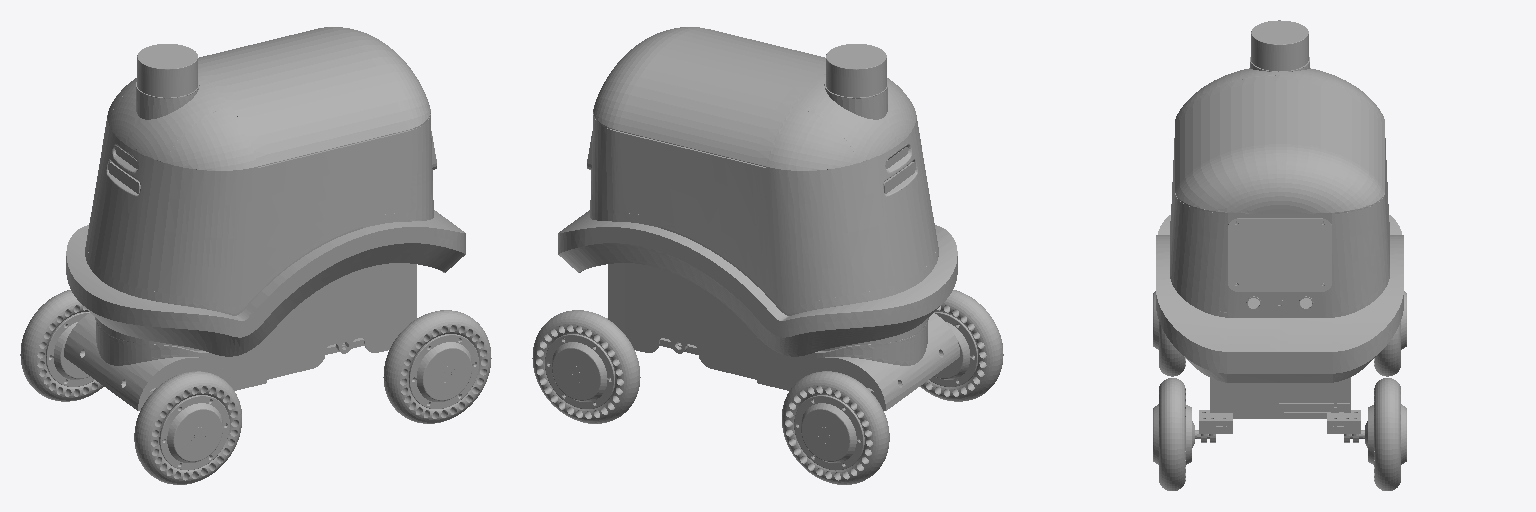
robot.urdf — dp:
<?xml version="1.0" ?>
<!-- =================================================================================== -->
<!-- |    This document was autogenerated by xacro from [local-path]/catkin_ws/src/dp_description/urdf/dp.xacro | -->
<!-- |    EDITING THIS FILE BY HAND IS NOT RECOMMENDED                                 | -->
<!-- =================================================================================== -->
<robot name="dp">
  <material name="silver">
    <color rgba="0.700 0.700 0.700 1.000"/>
  </material>
  <!-- <xacro:include filename="$(find dp_description)/urdf/dp.trans" /> -->
  <gazebo reference="base_link">
    <material>Gazebo/Grey</material>
  </gazebo>
  <gazebo reference="right_frontwheel_1">
    <material>Gazebo/Black</material>
  </gazebo>
  <gazebo reference="left_frontwheel_1">
    <material>Gazebo/Black</material>
  </gazebo>
  <gazebo reference="right_backwheel_1">
    <material>Gazebo/Black</material>
  </gazebo>
  <gazebo reference="left_backwheel_1">
    <material>Gazebo/Black</material>
  </gazebo>
  <gazebo reference="lidar_1">
    <material>Gazebo/Red</material>
  </gazebo>
  <gazebo reference="middle_case_1">
    <material>Gazebo/Red</material>
  </gazebo>
  <gazebo reference="top_case_1">
    <material>Gazebo/White</material>
  </gazebo>
  <gazebo reference="monitor_1">
    <material>Gazebo/Grey</material>
  </gazebo>
  <gazebo reference="realsense256_1">
    <material>Gazebo/Yellow</material>
  </gazebo>
  <gazebo reference="realsense450_1">
    <material>Gazebo/Yellow</material>
  </gazebo>
  <gazebo reference="base_link">
    <mu1>1.0</mu1>
    <mu2>1.0</mu2>
    <selfCollide>true</selfCollide>
    <gravity>true</gravity>
  </gazebo>
  <gazebo reference="right_frontwheel_1">
    <mu1>100</mu1>
    <mu2>100</mu2>
    <selfCollide>true</selfCollide>
  </gazebo>
  <gazebo reference="left_frontwheel_1">
    <mu1>100</mu1>
    <mu2>100</mu2>
    <selfCollide>true</selfCollide>
  </gazebo>
  <gazebo reference="right_backwheel_1">
    <mu1>100</mu1>
    <mu2>100</mu2>
    <selfCollide>true</selfCollide>
  </gazebo>
  <gazebo reference="left_backwheel_1">
    <mu1>100</mu1>
    <mu2>100</mu2>
    <selfCollide>true</selfCollide>
  </gazebo>
  <gazebo reference="lidar_1">
    <mu1>1.0</mu1>
    <mu2>1.0</mu2>
    <selfCollide>true</selfCollide>
  </gazebo>
  <gazebo reference="middle_case_1">
    <mu1>1.0</mu1>
    <mu2>1.0</mu2>
    <selfCollide>true</selfCollide>
  </gazebo>
  <gazebo reference="top_case_1">
    <mu1>1.0</mu1>
    <mu2>1.0</mu2>
    <selfCollide>true</selfCollide>
  </gazebo>
  <gazebo reference="monitor_1">
    <mu1>1.0</mu1>
    <mu2>1.0</mu2>
    <selfCollide>true</selfCollide>
  </gazebo>
  <gazebo reference="realsense256_1">
    <mu1>1.0</mu1>
    <mu2>1.0</mu2>
    <selfCollide>true</selfCollide>
  </gazebo>
  <gazebo reference="realsense450_1">
    <mu1>1.0</mu1>
    <mu2>1.0</mu2>
    <selfCollide>true</selfCollide>
  </gazebo>
  <!--################################## ROS control ##################################-->
  <gazebo>
    <plugin filename="libgazebo_ros_control.so" name="control"/>
  </gazebo>
  <!--################################## Differential Drive ##################################-->
  <gazebo>
    <plugin filename="libgazebo_ros_diff_drive.so" name="differential_drive_controller">
      <!-- Plugin update rate in Hz -->
      <updateRate>20</updateRate>
      <!-- Name of left joint, defaults to `left_joint` -->
      <leftJoint>left_front_rota</leftJoint>
      <!-- Name of right joint, defaults to `right_joint` -->
      <rightJoint>right_front_rota</rightJoint>
      <!-- Name of left joint, defaults to `left_joint` -->
      <leftJoint>left_back_rota</leftJoint>
      <!-- Name of right joint, defaults to `right_joint` -->
      <rightJoint>right_back_rota</rightJoint>
      <!-- Wheel acceleration, in rad/s^2, defaults to 0.0 rad/s^2 -->
      <wheelAcceleration>1.0</wheelAcceleration>
      <!-- Maximum torque which the wheels can produce, in Nm, defaults to 5 Nm -->
      <wheelTorque>20</wheelTorque>
      <!-- Topic to receive geometry_msgs/Twist message commands, defaults to `cmd_vel` -->
      <commandTopic>cmd_vel</commandTopic>
      <!-- Topic to publish nav_msgs/Odometry messages, defaults to `odom` -->
      <odometryTopic>odom</odometryTopic>
      <!-- Odometry frame, defaults to `odom` -->
      <odometryFrame>odom</odometryFrame>
      <!-- Robot frame to calculate odometry from, defaults to `base_footprint` -->
      <robotBaseFrame>base_link</robotBaseFrame>
      <!-- Odometry source, 0 for ENCODER, 1 for WORLD, defaults to WORLD -->
      <odometrySource>1</odometrySource>
      <!-- Set to true to publish transforms for the wheel links, defaults to false -->
      <publishWheelTF>true</publishWheelTF>
      <!-- Set to true to publish transforms for the odometry, defaults to true -->
      <publishOdom>true</publishOdom>
      <!-- Set to true to publish sensor_msgs/JointState on /joint_states for the wheel joints, defaults to false -->
      <publishWheelJointState>true</publishWheelJointState>
      <!-- Set to true to swap right and left wheels, defaults to true -->
      <legacyMode>false</legacyMode>
    </plugin>
  </gazebo>
  <!--################################## GPU Laser Drive ##################################-->
  <gazebo reference="lidar_1">
    <sensor name="rplidar_a1" type="gpu_ray">
      <pose>0 0 0 0 0 0</pose>
      <visualize>true</visualize>
      <update_rate>10</update_rate>
      <ray>
        <scan>
          <horizontal>
            <samples>720</samples>
            <resolution>1</resolution>
            <min_angle>-2.87979</min_angle>
            <max_angle>2.87979</max_angle>
          </horizontal>
        </scan>
        <range>
          <min>0.10</min>
          <max>30.0</max>
          <resolution>0.01</resolution>
        </range>
        <noise>
          <type>gaussian</type>
          <!-- Noise parameters based on published spec for Hokuyo laser
               achieving "+-30mm" accuracy at range < 10m.  A mean of 0.0m and
               stddev of 0.01m will put 99.7% of samples within 0.03m of the true
               reading. -->
          <mean>0.0</mean>
          <stddev>0.01</stddev>
        </noise>
      </ray>
      <plugin filename="libgazebo_ros_gpu_laser.so" name="gazebo_ros_head_hokuyo_controller">
        <topicName>/scan</topicName>
        <frameName>lidar_1</frameName>
      </plugin>
    </sensor>
  </gazebo>
  <link name="base_link">
    <inertial>
      <origin rpy="0 0 0" xyz="0.05101704305235959 -1.0778151042224695e-05 0.17068007655051307"/>
      <mass value="46.82272807242809"/>
      <inertia ixx="0.626679" ixy="0.000944" ixz="-0.030178" iyy="1.899301" iyz="9.3e-05" izz="1.862284"/>
    </inertial>
    <visual>
      <origin rpy="0 0 0" xyz="0 0 0"/>
      <geometry>
        <mesh filename="package://dp_description/meshes/base_link.stl" scale="0.001 0.001 0.001"/>
      </geometry>
      <material name="silver"/>
    </visual>
    <collision>
      <origin rpy="0 0 0" xyz="0 0 0"/>
      <geometry>
        <mesh filename="package://dp_description/meshes/base_link.stl" scale="0.001 0.001 0.001"/>
      </geometry>
    </collision>
  </link>
  <link name="right_frontwheel_1">
    <inertial>
      <origin rpy="0 0 0" xyz="-2.9390397060513607e-09 -0.03503766439501102 -1.5735230796121158e-07"/>
      <mass value="11.136175678001043"/>
      <inertia ixx="0.026909" ixy="0.0" ixz="-0.0" iyy="0.048102" iyz="0.0" izz="0.026909"/>
    </inertial>
    <visual>
      <origin rpy="0 0 0" xyz="0.229463 -0.2296 -0.081394"/>
      <geometry>
        <mesh filename="package://dp_description/meshes/right_frontwheel_1.stl" scale="0.001 0.001 0.001"/>
      </geometry>
      <material name="silver"/>
    </visual>
    <collision>
      <origin rpy="0 0 0" xyz="0.229463 -0.2296 -0.081394"/>
      <geometry>
        <mesh filename="package://dp_description/meshes/right_frontwheel_1.stl" scale="0.001 0.001 0.001"/>
      </geometry>
    </collision>
  </link>
  <link name="left_frontwheel_1">
    <inertial>
      <origin rpy="0 0 0" xyz="-8.846289908936988e-08 0.035037615642317166 -1.4291986839831683e-07"/>
      <mass value="11.136215821603535"/>
      <inertia ixx="0.026909" ixy="-0.0" ixz="-0.0" iyy="0.048102" iyz="0.0" izz="0.026909"/>
    </inertial>
    <visual>
      <origin rpy="0 0 0" xyz="0.229463 0.2296 -0.081394"/>
      <geometry>
        <mesh filename="package://dp_description/meshes/left_frontwheel_1.stl" scale="0.001 0.001 0.001"/>
      </geometry>
      <material name="silver"/>
    </visual>
    <collision>
      <origin rpy="0 0 0" xyz="0.229463 0.2296 -0.081394"/>
      <geometry>
        <mesh filename="package://dp_description/meshes/left_frontwheel_1.stl" scale="0.001 0.001 0.001"/>
      </geometry>
    </collision>
  </link>
  <link name="right_backwheel_1">
    <inertial>
      <origin rpy="0 0 0" xyz="-3.1951071177704904e-07 -0.03503766439501091 -1.7039963265408353e-07"/>
      <mass value="11.136175678000965"/>
      <inertia ixx="0.026909" ixy="0.0" ixz="-0.0" iyy="0.048102" iyz="0.0" izz="0.026909"/>
    </inertial>
    <visual>
      <origin rpy="0 0 0" xyz="-0.263691 -0.2296 -0.081925"/>
      <geometry>
        <mesh filename="package://dp_description/meshes/right_backwheel_1.stl" scale="0.001 0.001 0.001"/>
      </geometry>
      <material name="silver"/>
    </visual>
    <collision>
      <origin rpy="0 0 0" xyz="-0.263691 -0.2296 -0.081925"/>
      <geometry>
        <mesh filename="package://dp_description/meshes/right_backwheel_1.stl" scale="0.001 0.001 0.001"/>
      </geometry>
    </collision>
  </link>
  <link name="left_backwheel_1">
    <inertial>
      <origin rpy="0 0 0" xyz="-4.355953145962488e-07 0.03503761564231722 -1.9212325416684273e-07"/>
      <mass value="11.136215821603576"/>
      <inertia ixx="0.026909" ixy="-0.0" ixz="-0.0" iyy="0.048102" iyz="0.0" izz="0.026909"/>
    </inertial>
    <visual>
      <origin rpy="0 0 0" xyz="-0.263691 0.2296 -0.081925"/>
      <geometry>
        <mesh filename="package://dp_description/meshes/left_backwheel_1.stl" scale="0.001 0.001 0.001"/>
      </geometry>
      <material name="silver"/>
    </visual>
    <collision>
      <origin rpy="0 0 0" xyz="-0.263691 0.2296 -0.081925"/>
      <geometry>
        <mesh filename="package://dp_description/meshes/left_backwheel_1.stl" scale="0.001 0.001 0.001"/>
      </geometry>
    </collision>
  </link>
  <link name="lidar_1">
    <inertial>
      <origin rpy="0 0 0" xyz="-8.193133987088874e-07 1.8657367368123766e-06 0.03608489423123695"/>
      <mass value="4.8206637754823465"/>
      <inertia ixx="0.005355" ixy="-0.0" ixz="-0.0" iyy="0.005358" iyz="0.0" izz="0.006536"/>
    </inertial>
    <visual>
      <origin rpy="0 0 0" xyz="0.157692 -0.0 -0.616539"/>
      <geometry>
        <mesh filename="package://dp_description/meshes/lidar_1.stl" scale="0.001 0.001 0.001"/>
      </geometry>
      <material name="silver"/>
    </visual>
    <collision>
      <origin rpy="0 0 0" xyz="0.157692 -0.0 -0.616539"/>
      <geometry>
        <mesh filename="package://dp_description/meshes/lidar_1.stl" scale="0.001 0.001 0.001"/>
      </geometry>
    </collision>
  </link>
  <link name="middle_case_1">
    <inertial>
      <origin rpy="0 0 0" xyz="0.29072140518707223 -3.337339200083743e-06 0.08729639670679934"/>
      <mass value="15.782733799040091"/>
      <inertia ixx="0.442139" ixy="1.7e-05" ixz="-0.061942" iyy="0.728843" iyz="3e-06" izz="1.099761"/>
    </inertial>
    <visual>
      <origin rpy="0 0 0" xyz="0.258804 0.0 -0.19933"/>
      <geometry>
        <mesh filename="package://dp_description/meshes/middle_case_1.stl" scale="0.001 0.001 0.001"/>
      </geometry>
      <material name="silver"/>
    </visual>
    <collision>
      <origin rpy="0 0 0" xyz="0.258804 0.0 -0.19933"/>
      <geometry>
        <mesh filename="package://dp_description/meshes/middle_case_1.stl" scale="0.001 0.001 0.001"/>
      </geometry>
    </collision>
  </link>
  <link name="top_case_1">
    <inertial>
      <origin rpy="0 0 0" xyz="0.31777165910855737 -7.51698507369497e-05 0.1964836833027458"/>
      <mass value="17.19984458184514"/>
      <inertia ixx="0.418849" ixy="-0.000187" ixz="-0.03852" iyy="0.640039" iyz="4.1e-05" izz="0.811263"/>
    </inertial>
    <visual>
      <origin rpy="0 0 0" xyz="0.281871 0.0 -0.308261"/>
      <geometry>
        <mesh filename="package://dp_description/meshes/top_case_1.stl" scale="0.001 0.001 0.001"/>
      </geometry>
      <material name="silver"/>
    </visual>
    <collision>
      <origin rpy="0 0 0" xyz="0.281871 0.0 -0.308261"/>
      <geometry>
        <mesh filename="package://dp_description/meshes/top_case_1.stl" scale="0.001 0.001 0.001"/>
      </geometry>
    </collision>
  </link>
  <link name="monitor_1">
    <inertial>
      <origin rpy="0 0 0" xyz="0.001655376259088126 0.07749999999833582 0.0002915373902269147"/>
      <mass value="0.33543851271956476"/>
      <inertia ixx="0.000854" ixy="0.0" ixz="3.2e-05" iyy="0.000188" iyz="-0.0" izz="0.000678"/>
    </inertial>
    <visual>
      <origin rpy="0 0 0" xyz="-0.30675 0.0775 -0.474076"/>
      <geometry>
        <mesh filename="package://dp_description/meshes/monitor_1.stl" scale="0.001 0.001 0.001"/>
      </geometry>
      <material name="silver"/>
    </visual>
    <collision>
      <origin rpy="0 0 0" xyz="-0.30675 0.0775 -0.474076"/>
      <geometry>
        <mesh filename="package://dp_description/meshes/monitor_1.stl" scale="0.001 0.001 0.001"/>
      </geometry>
    </collision>
  </link>
  <link name="realsense256_1">
    <inertial>
      <origin rpy="0 0 0" xyz="1.3233874079920938e-07 8.336765847105631e-10 0.010999970214392252"/>
      <mass value="0.09367112401702242"/>
      <inertia ixx="8.9e-05" ixy="-0.0" ixz="0.0" iyy="5e-06" iyz="0.0" izz="8.7e-05"/>
    </inertial>
    <visual>
      <origin rpy="0 0 0" xyz="0.236745 -0.0 -0.467447"/>
      <geometry>
        <mesh filename="package://dp_description/meshes/realsense256_1.stl" scale="0.001 0.001 0.001"/>
      </geometry>
      <material name="silver"/>
    </visual>
    <collision>
      <origin rpy="0 0 0" xyz="0.236745 -0.0 -0.467447"/>
      <geometry>
        <mesh filename="package://dp_description/meshes/realsense256_1.stl" scale="0.001 0.001 0.001"/>
      </geometry>
    </collision>
  </link>
  <link name="realsense450_1">
    <inertial>
      <origin rpy="0 0 0" xyz="0.005500294725026472 -4.3524614181041663e-07 0.00799970592549848"/>
      <mass value="0.037001926351152764"/>
      <inertia ixx="1.9e-05" ixy="-0.0" ixz="0.0" iyy="1e-06" iyz="-0.0" izz="1.9e-05"/>
    </inertial>
    <visual>
      <origin rpy="0 0 0" xyz="0.237702 -4.3e-05 -0.507313"/>
      <geometry>
        <mesh filename="package://dp_description/meshes/realsense450_1.stl" scale="0.001 0.001 0.001"/>
      </geometry>
      <material name="silver"/>
    </visual>
    <collision>
      <origin rpy="0 0 0" xyz="0.237702 -4.3e-05 -0.507313"/>
      <geometry>
        <mesh filename="package://dp_description/meshes/realsense450_1.stl" scale="0.001 0.001 0.001"/>
      </geometry>
    </collision>
  </link>
  <joint name="right_front_rota" type="continuous">
    <origin rpy="0 0 0" xyz="-0.229463 0.2296 0.081394"/>
    <parent link="base_link"/>
    <child link="right_frontwheel_1"/>
    <axis xyz="0.0 1.0 0.0"/>
  </joint>
  <joint name="left_front_rota" type="continuous">
    <origin rpy="0 0 0" xyz="-0.229463 -0.2296 0.081394"/>
    <parent link="base_link"/>
    <child link="left_frontwheel_1"/>
    <axis xyz="-0.0 1.0 0.0"/>
  </joint>
  <joint name="right_back_rota" type="continuous">
    <origin rpy="0 0 0" xyz="0.263691 0.2296 0.081925"/>
    <parent link="base_link"/>
    <child link="right_backwheel_1"/>
    <axis xyz="0.0 1.0 0.0"/>
  </joint>
  <joint name="left_back_rota" type="continuous">
    <origin rpy="0 0 0" xyz="0.263691 -0.2296 0.081925"/>
    <parent link="base_link"/>
    <child link="left_backwheel_1"/>
    <axis xyz="0.0 1.0 0.0"/>
  </joint>
  <joint name="lidar_rota" type="continuous">
    <origin rpy="0 0 0" xyz="-0.157692 0.0 0.616539"/>
    <parent link="base_link"/>
    <child link="lidar_1"/>
    <axis xyz="0.0 -0.0 1.0"/>
  </joint>
  <joint name="middle_base_att" type="fixed">
    <origin rpy="0 0 0" xyz="-0.258804 0.0 0.19933"/>
    <parent link="base_link"/>
    <child link="middle_case_1"/>
  </joint>
  <joint name="top_middle_att" type="fixed">
    <origin rpy="0 0 0" xyz="-0.023067 0.0 0.108931"/>
    <parent link="middle_case_1"/>
    <child link="top_case_1"/>
  </joint>
  <joint name="monitor_att" type="fixed">
    <origin rpy="0 0 0" xyz="0.588621 -0.0775 0.165815"/>
    <parent link="top_case_1"/>
    <child link="monitor_1"/>
  </joint>
  <joint name="realsense256_joint" type="fixed">
    <origin rpy="0 0 0" xyz="0.045126 0.0 0.159186"/>
    <parent link="top_case_1"/>
    <child link="realsense256_1"/>
  </joint>
  <joint name="realsense450_joint" type="fixed">
    <origin rpy="0 0 0" xyz="0.044169 4.3e-05 0.199052"/>
    <parent link="top_case_1"/>
    <child link="realsense450_1"/>
  </joint>
</robot>

--- What the picture shows (computed from the rendered views, not written in the file) ---
3 views of the same robot in one strip: view 1: azimuth 30°, elevation 25°; view 2: azimuth 150°, elevation 25°; view 3: azimuth 270°, elevation 25° (orthographic).
Model dp with 11 links and 10 joints (5 continuous, 5 fixed), rooted at base_link, posed every joint at zero.
Links seen in each view (by area): view 1: top_case_1, middle_case_1, base_link, left_frontwheel_1, left_backwheel_1, right_frontwheel_1, lidar_1; view 2: top_case_1, middle_case_1, base_link, right_frontwheel_1, right_backwheel_1, left_frontwheel_1, lidar_1; view 3: top_case_1, middle_case_1, base_link, monitor_1, right_backwheel_1, left_backwheel_1, lidar_1, right_frontwheel_1, left_frontwheel_1.
Link boxes in pixels (x1,y1,x2,y2): top_case_1: [87, 27, 436, 306]; middle_case_1: [66, 210, 465, 356]; base_link: [64, 263, 451, 439]; left_frontwheel_1: [134, 371, 241, 484]; left_backwheel_1: [383, 310, 491, 423]; right_frontwheel_1: [20, 290, 103, 401]; lidar_1: [137, 44, 197, 97]; top_case_1: [587, 27, 936, 306]; middle_case_1: [558, 210, 957, 356]; base_link: [572, 263, 959, 439]; right_frontwheel_1: [782, 371, 889, 484]; right_backwheel_1: [532, 310, 640, 423]; left_frontwheel_1: [920, 290, 1003, 401]; lidar_1: [826, 44, 886, 97]; top_case_1: [1170, 57, 1389, 312]; middle_case_1: [1156, 215, 1403, 382]; base_link: [1197, 283, 1362, 442]; monitor_1: [1237, 227, 1322, 270]; right_backwheel_1: [1363, 378, 1406, 490]; left_backwheel_1: [1153, 378, 1196, 490]; lidar_1: [1251, 20, 1308, 71]; right_frontwheel_1: [1374, 291, 1406, 376]; left_frontwheel_1: [1153, 291, 1185, 376].
Bounding box of the posed robot: 0.6991 × 0.4592 × 0.7103 m (x, y, z).
11 mesh visuals loaded from 11 distinct referenced files (11 binary STL).